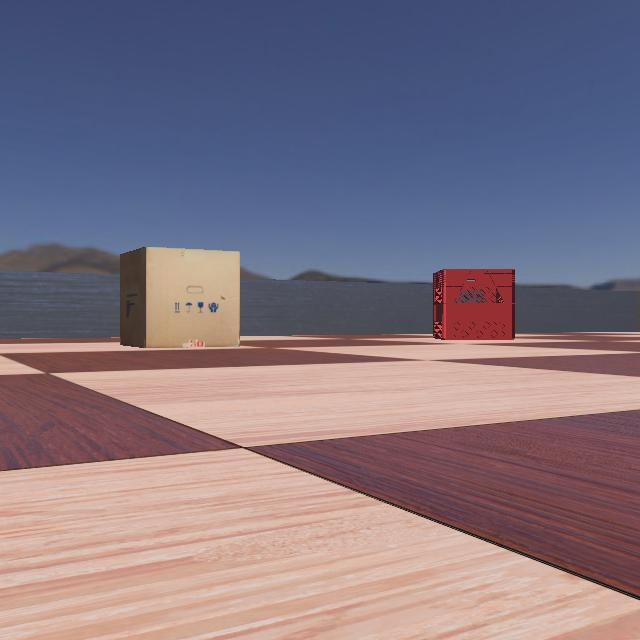cardboard-box: (95, 245, 248, 347), (95, 245, 248, 347)
plastic-crate: (432, 268, 514, 339)
